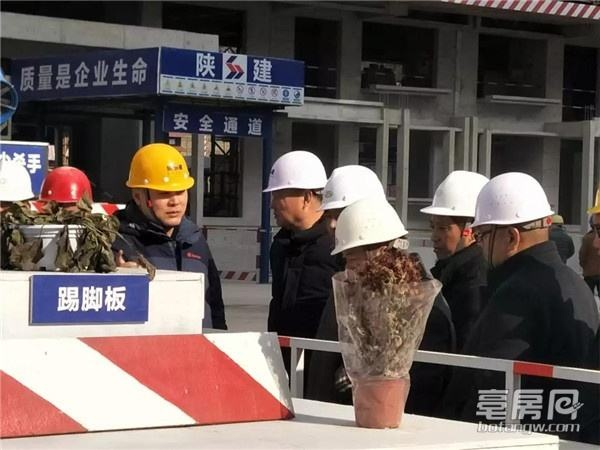red: (41, 164, 92, 224)
white: (473, 171, 553, 263), (426, 171, 483, 256), (267, 146, 321, 226), (337, 204, 399, 273), (323, 165, 375, 234)
yellow: (126, 139, 191, 229)
